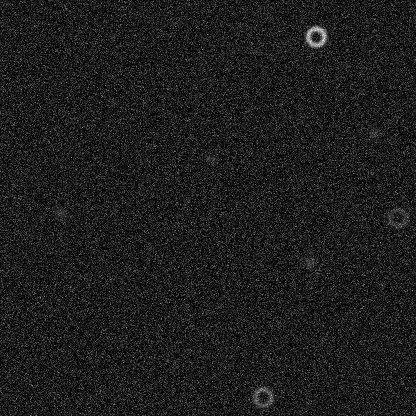Ring: (303, 24, 327, 48), (385, 205, 409, 229), (250, 385, 274, 409)
Spot: (52, 205, 68, 221), (203, 150, 219, 166), (366, 125, 382, 141), (301, 254, 317, 270)
